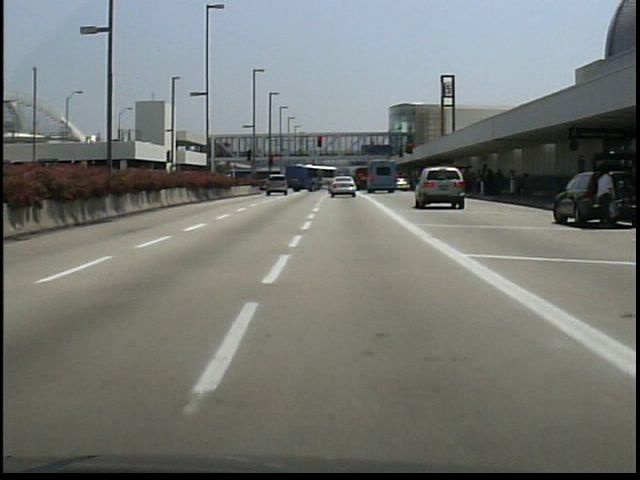person: (592, 168, 618, 230)
